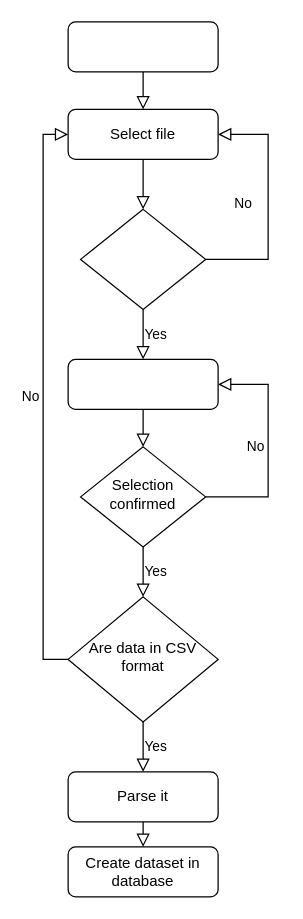
The diagram is 303 pixels wide and 919 high, and some of its shapes have lost their labels. Here are the shapes that lost their labels. From the top down, the box of each, then its label:
(67, 21, 218, 72): Log in
(79, 208, 206, 309): File selected
(67, 358, 218, 409): Confirm selection
